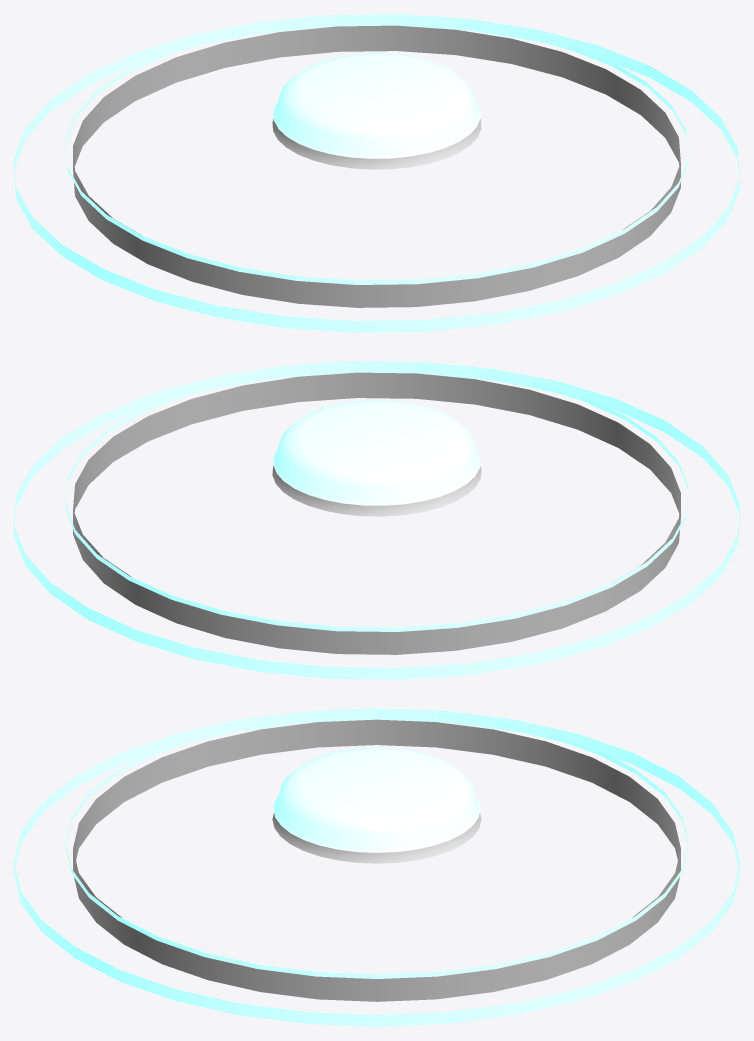
Rendered from Starship_glasses.fbx.
3 renders of one model, top to bottom at view 1: azimuth 30°, elevation 25°; view 2: azimuth 150°, elevation 25°; view 3: azimuth 270°, elevation 25°, orthographic.
Visible parts, largest first — view 1: Starship_exterior_glasses; view 2: Starship_exterior_glasses; view 3: Starship_exterior_glasses.
Part boxes in pixels (x1=…): Starship_exterior_glasses: x1=14, y1=14, x2=739, y2=332; Starship_exterior_glasses: x1=14, y1=361, x2=739, y2=679; Starship_exterior_glasses: x1=14, y1=708, x2=739, y2=1026.
Bounding box in the file's own units: 2657 × 369 × 2657.
